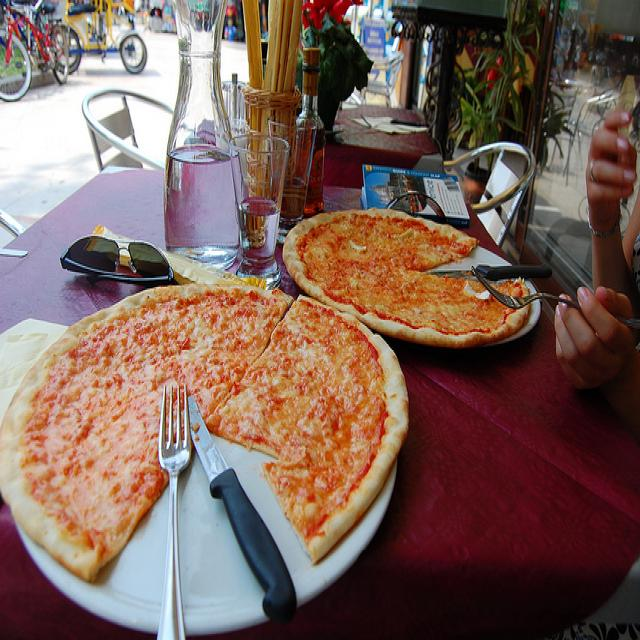chair: (386, 139, 537, 249), (82, 85, 178, 172), (361, 20, 404, 107), (548, 80, 583, 186), (0, 208, 40, 239)
dining table: (1, 166, 640, 628)
